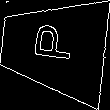P_W: (30, 26, 77, 69)
